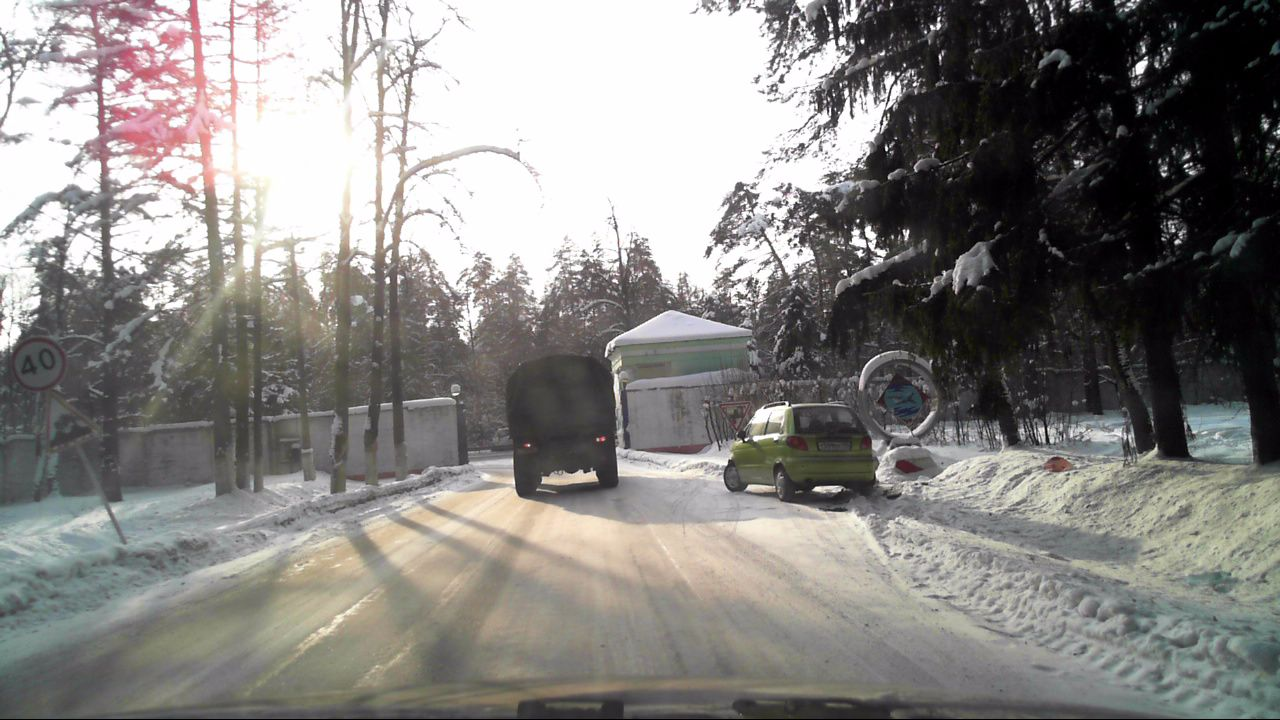speed_warning_40: (14, 337, 67, 391)
